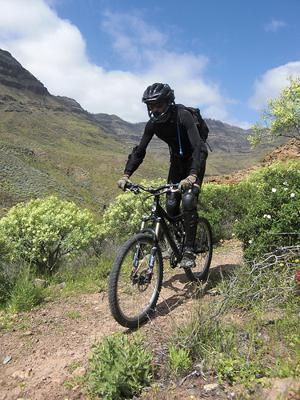person: (118, 83, 211, 270)
